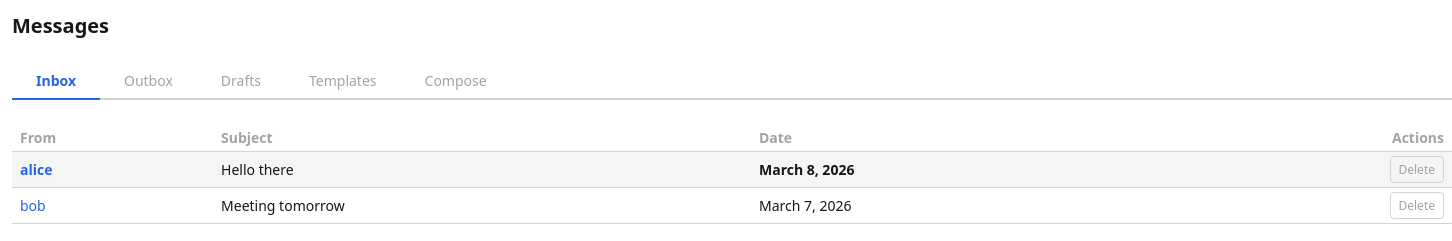
MessagesPage drafts & templates (BE-7.2) › lists saved templates
Click the button "Templates".
click(343, 82)  # box [285,63,400,100]
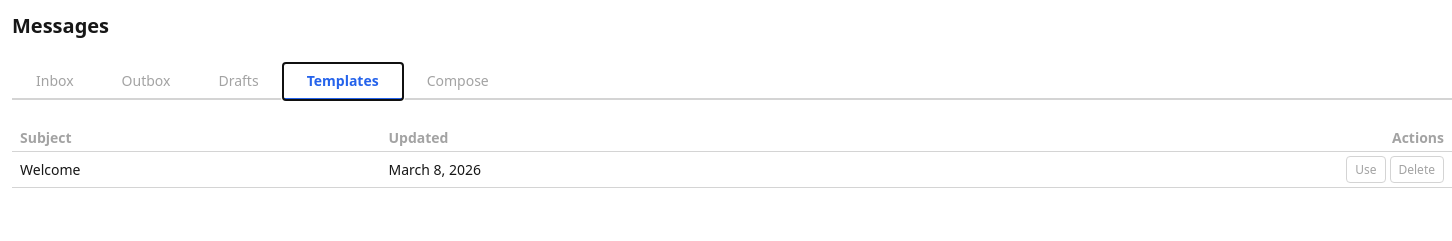
Expected: the button "Welcome" is shown, [20,160,80,179]
